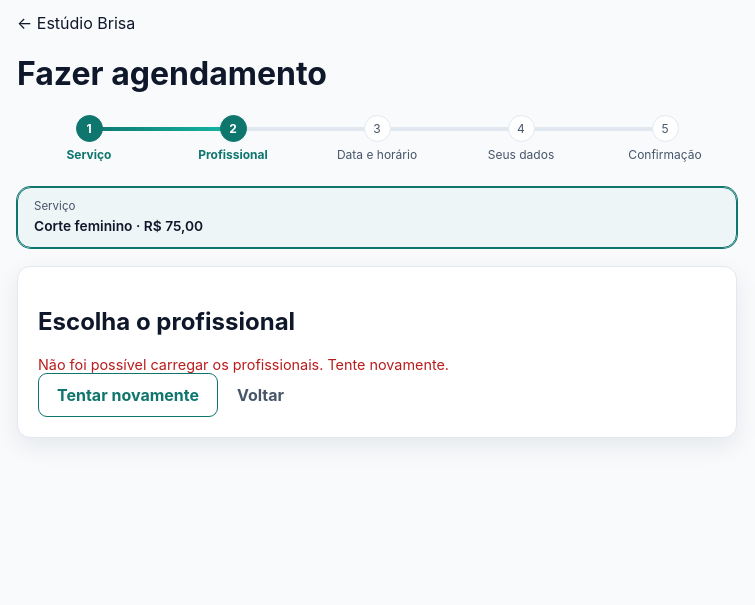
agendamento de um estabelecimento real › permite tentar novamente quando a busca de profissionais falha
expect the heading "Escolha o profissional" is shown: met, box [38, 307, 295, 336]
expect the message reads "Não foi possível carregar os profissionais. Tente novamente.": met, box [38, 356, 449, 373]
Click the button "Tentar novamente". click: [128, 395]
box: [38, 373, 218, 417]
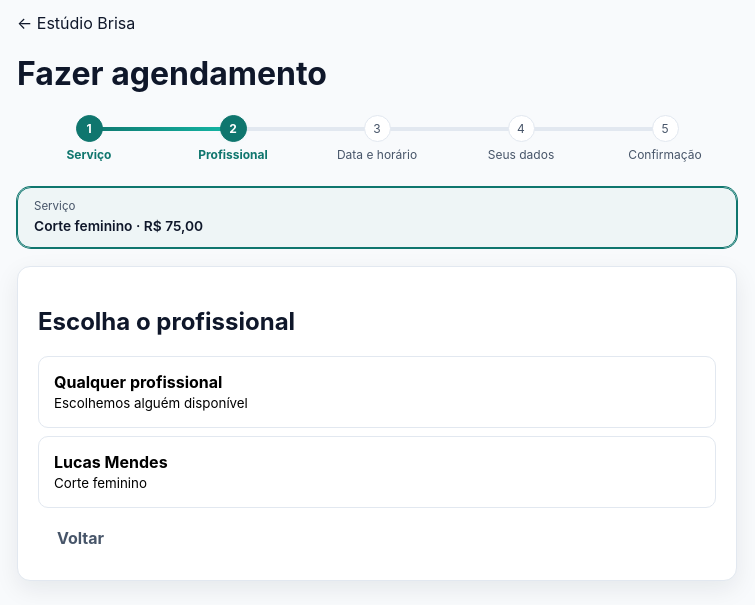
expect the button "Lucas Mendes" is shown: met, box [38, 436, 716, 508]
